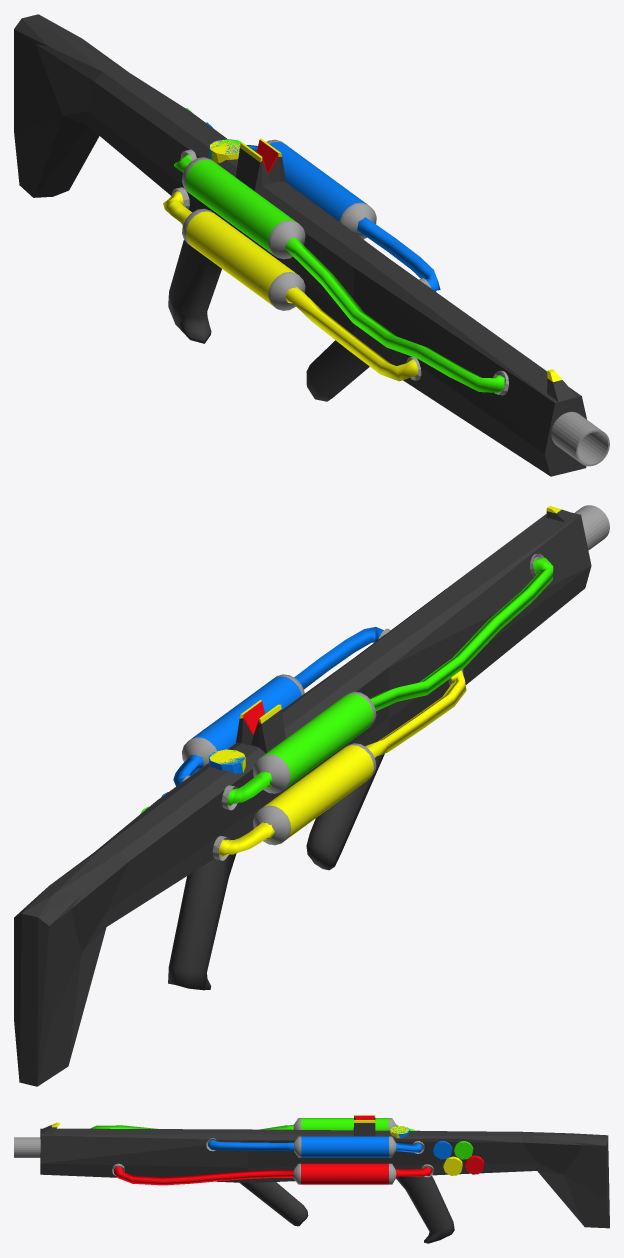
The model's file is PaintballgunLowPolly.fbx.
3 views of the same model, one above another, from view 1: azimuth 30°, elevation 25°; view 2: azimuth 150°, elevation 25°; view 3: azimuth 270°, elevation 25° (orthographic). The views are drawn at different scales.
Visible parts, largest first — view 1: Body, TopRightPaintChamber, BottomLeftPainChamber, TopRightFrontPipe, Grip, TopLeftPaintChamber, BottomRightFrontPipe, FrontGrip, Barrel, RearSight, TopLeftFrontPipe; view 2: Body, TopRightPaintChamber, BottomLeftPainChamber, Grip, TopRightFrontPipe, TopLeftPaintChamber, FrontGrip, BottomRightFrontPipe, RearSight, TopLeftFrontPipe, Barrel, BottomRightRearPipe; view 3: Body, BottomLeftPaintChamber, TopLeftPaintChamber, Grip, BottomLeftFrontPipe, FrontGrip, TopRightPaintChamber, TopLeftFrontPipe, Barrel, RearSight, TopRightFrontPipe, Yellow (+5 smaller).
Part boxes in pixels (x1=…): Body: x1=14, y1=14, x2=586, y2=476; TopRightPaintChamber: x1=182, y1=157, x2=305, y2=259; BottomLeftPainChamber: x1=182, y1=208, x2=305, y2=310; TopRightFrontPipe: x1=285, y1=237, x2=504, y2=392; Grip: x1=168, y1=240, x2=221, y2=343; TopLeftPaintChamber: x1=256, y1=139, x2=376, y2=239; BottomRightFrontPipe: x1=285, y1=287, x2=418, y2=381; FrontGrip: x1=306, y1=340, x2=369, y2=401; Barrel: x1=551, y1=411, x2=609, y2=466; RearSight: x1=235, y1=138, x2=285, y2=191; TopLeftFrontPipe: x1=357, y1=217, x2=440, y2=291; Body: x1=14, y1=513, x2=591, y2=1086; TopRightPaintChamber: x1=253, y1=691, x2=376, y2=793; BottomLeftPainChamber: x1=253, y1=743, x2=376, y2=845; Grip: x1=168, y1=853, x2=236, y2=990; TopRightFrontPipe: x1=369, y1=557, x2=553, y2=711; TopLeftPaintChamber: x1=182, y1=674, x2=304, y2=768; FrontGrip: x1=306, y1=753, x2=384, y2=870; BottomRightFrontPipe: x1=365, y1=670, x2=466, y2=757; RearSight: x1=235, y1=700, x2=285, y2=752; TopLeftFrontPipe: x1=294, y1=627, x2=383, y2=689; Barrel: x1=574, y1=505, x2=609, y2=550; BottomRightRearPipe: x1=218, y1=822, x2=274, y2=856; Body: x1=40, y1=1128, x2=609, y2=1228; BottomLeftPaintChamber: x1=293, y1=1163, x2=396, y2=1184; TopLeftPaintChamber: x1=294, y1=1136, x2=396, y2=1157; Grip: x1=396, y1=1176, x2=454, y2=1243; BottomLeftFrontPipe: x1=114, y1=1166, x2=293, y2=1185; FrontGrip: x1=239, y1=1182, x2=308, y2=1226; TopRightPaintChamber: x1=293, y1=1118, x2=396, y2=1130; TopLeftFrontPipe: x1=208, y1=1140, x2=294, y2=1151; Barrel: x1=14, y1=1137, x2=40, y2=1157; RearSight: x1=353, y1=1115, x2=375, y2=1136; TopRightFrontPipe: x1=90, y1=1125, x2=293, y2=1129; Yellow: x1=443, y1=1156, x2=462, y2=1175.
Size of the model in its own units: 330 by 706 by 3052.
